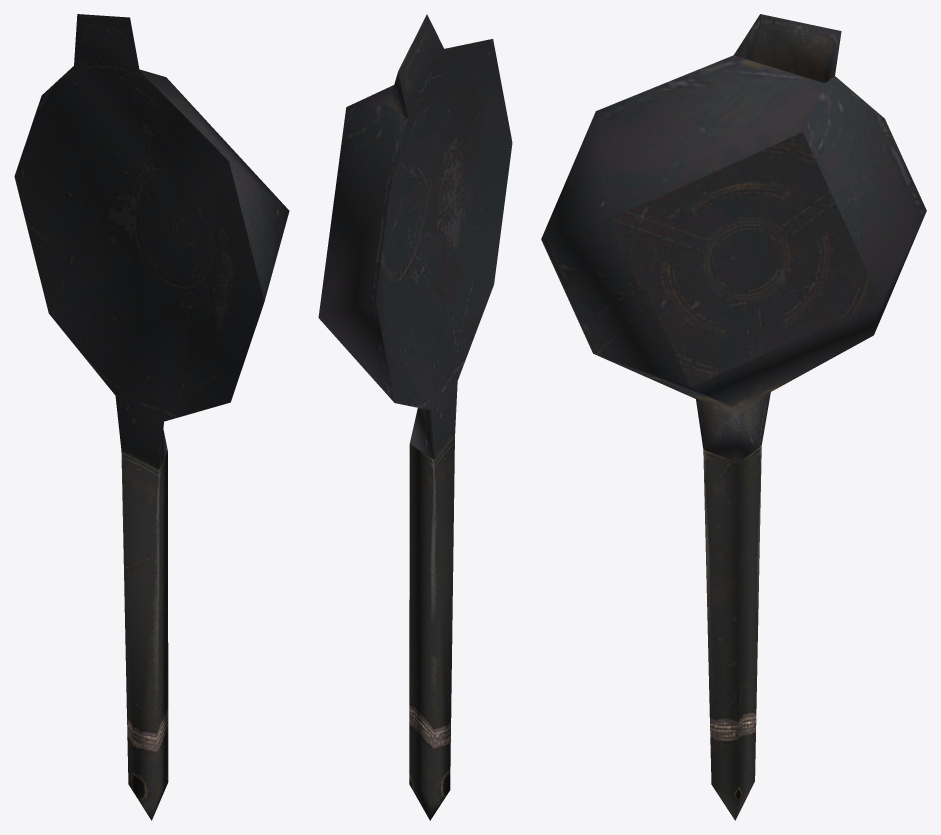
Rendered from Melee_Prop_Frying_Pan_LOD_(000688).glb.
The picture shows the model from 3 angles, left to right: view 1: azimuth 30°, elevation 25°; view 2: azimuth 150°, elevation 25°; view 3: azimuth 270°, elevation 25°; orthographic projection. The views are drawn at different scales.
Visible parts, largest first — view 1: Cylinder_lod1; view 2: Cylinder_lod1; view 3: Cylinder_lod1.
Part boxes in pixels (box(x1,y1,x2,y2)): Cylinder_lod1: box(14, 14, 289, 820); Cylinder_lod1: box(318, 14, 512, 820); Cylinder_lod1: box(541, 14, 926, 820).
Bounding box in the file's own units: 0.1238 × 0.791 × 0.3447.
1 material, 1 textured.
